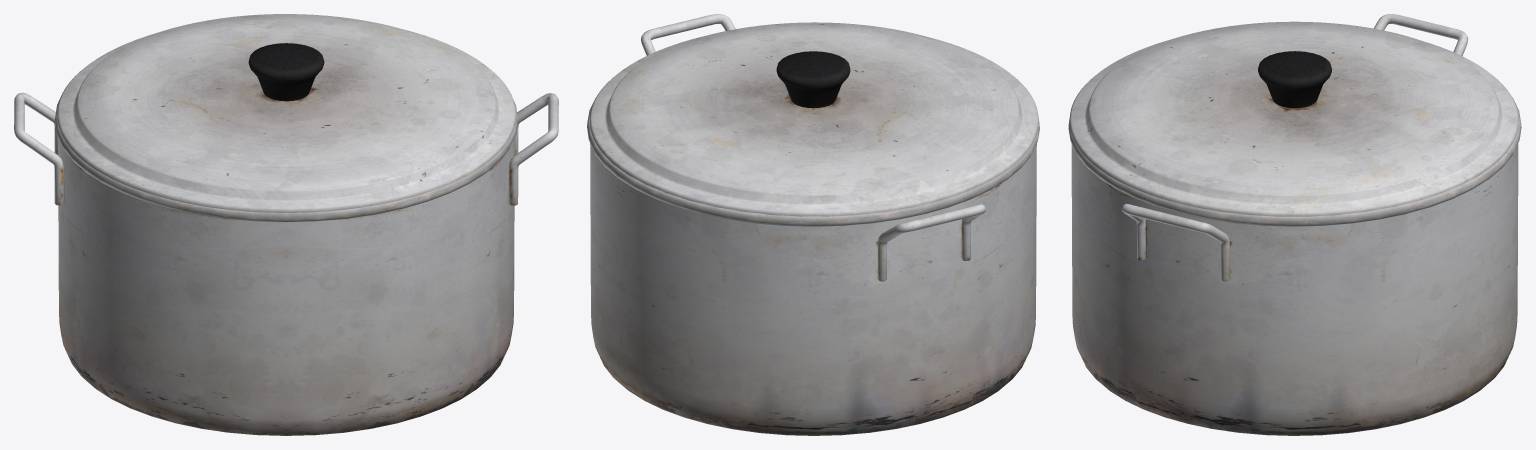
Rendered from tencere.glb.
3 views of the same model, side by side, from view 1: azimuth 30°, elevation 25°; view 2: azimuth 150°, elevation 25°; view 3: azimuth 270°, elevation 25° (orthographic). The views are drawn at different scales.
Visible parts, largest first — view 1: Cooking Pot Medium with Lid; view 2: Cooking Pot Medium with Lid; view 3: Cooking Pot Medium with Lid.
Boxes of the visible parts, left/top/right/bottom form: Cooking Pot Medium with Lid: left=14, top=14, right=558, bottom=435; Cooking Pot Medium with Lid: left=587, top=14, right=1039, bottom=435; Cooking Pot Medium with Lid: left=1068, top=14, right=1521, bottom=435.
Bounding box in the file's own units: 0.2961 × 0.1855 × 0.267.
1 material, 1 textured.
